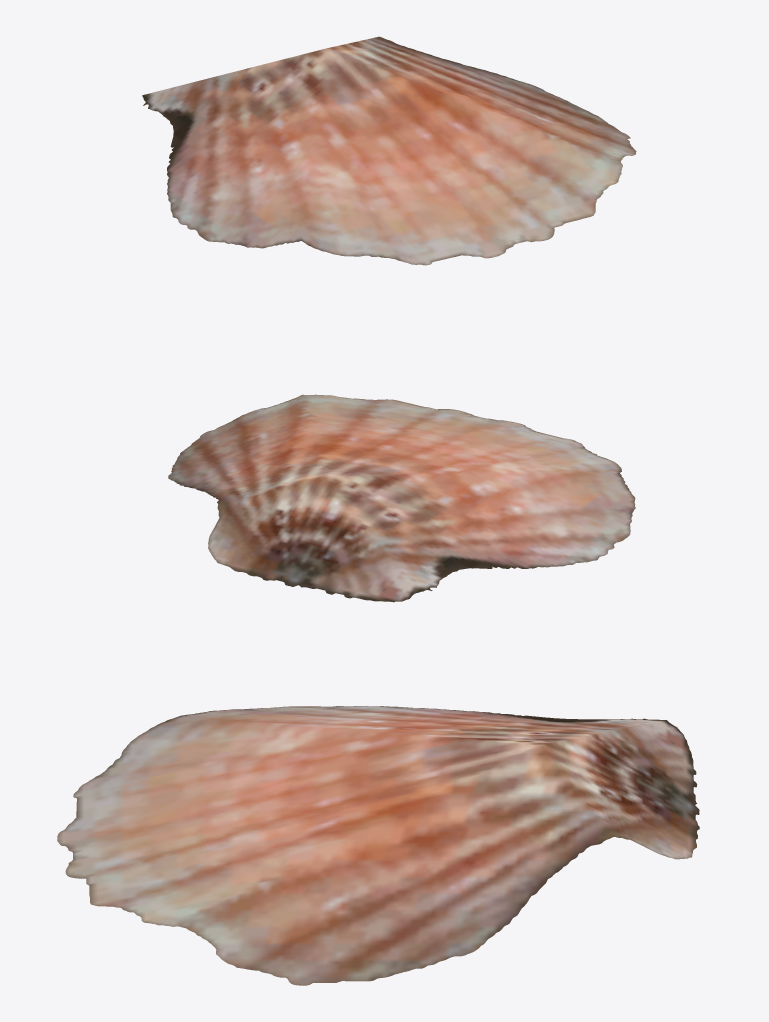
Rendered from shor_seashell_scallop_sh_a3_l0.fbx.
3 views of the same model, one above another, from view 1: azimuth 30°, elevation 25°; view 2: azimuth 150°, elevation 25°; view 3: azimuth 270°, elevation 25° (orthographic). The views are drawn at different scales.
Visible parts, largest first — view 1: mesh_node; view 2: mesh_node; view 3: mesh_node.
Part boxes in pixels (left/top/right/bottom): mesh_node: left=142, top=36, right=636, bottom=265; mesh_node: left=168, top=394, right=635, bottom=602; mesh_node: left=57, top=706, right=699, bottom=985.
Bounding box in the file's own units: 0.1005 × 0.0168 × 0.103.
Materials: 1 (1 with a texture image).
